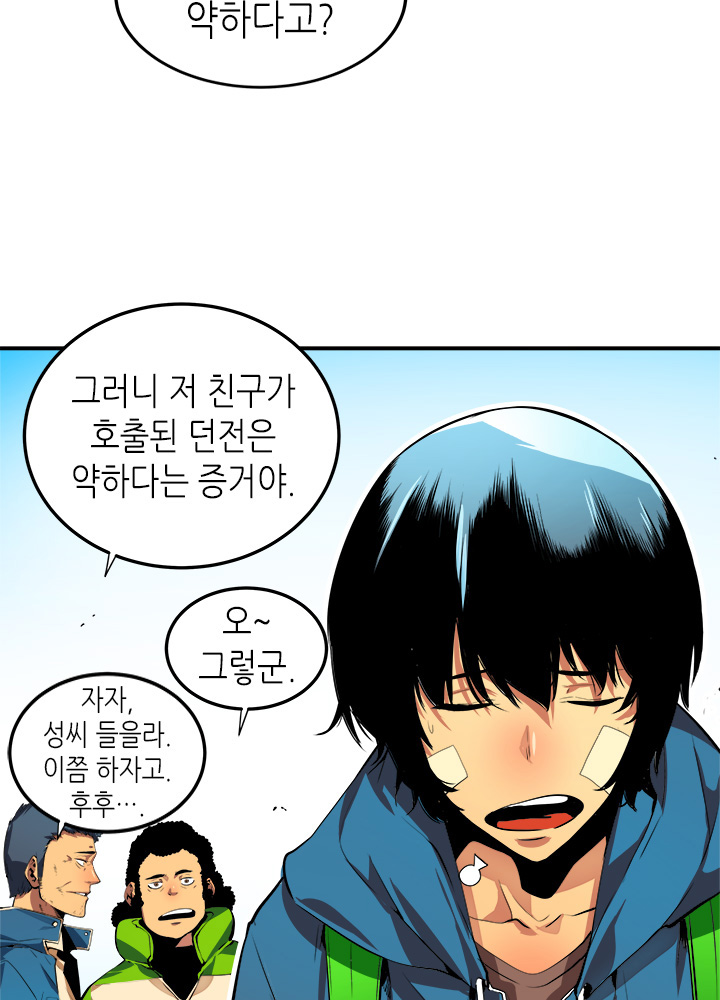dialog box: (8, 284, 390, 598), (1, 657, 223, 860), (77, 1, 425, 113), (144, 571, 353, 749)
text: (54, 352, 325, 526), (23, 665, 186, 839), (191, 593, 309, 698), (176, 1, 347, 54)
